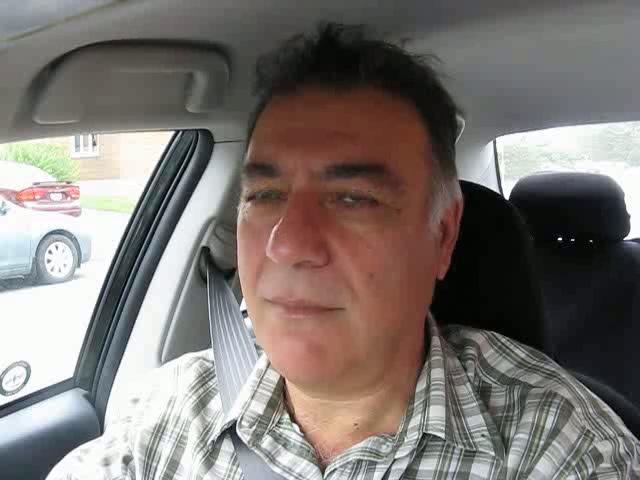close_eyeL: (236, 175, 297, 217)
close_eyeR: (315, 177, 400, 225)
no_yawn: (249, 279, 357, 336)
